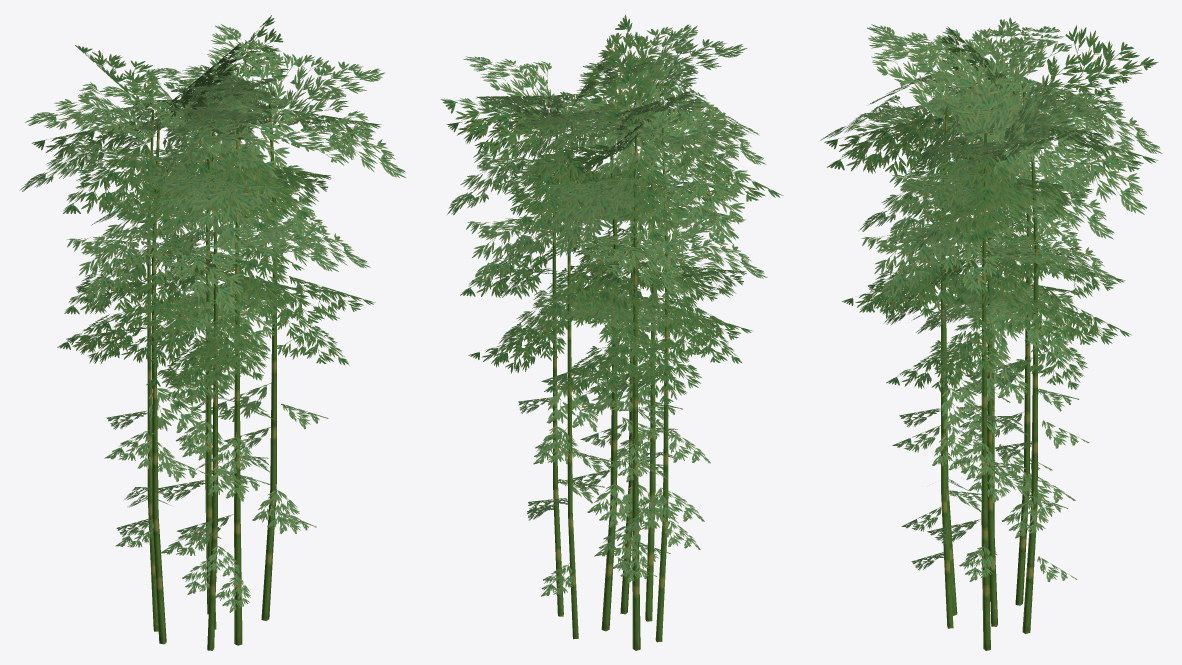
Rendered from m_bamboo01.fbx.
3 views of the same model, side by side, from view 1: azimuth 30°, elevation 25°; view 2: azimuth 150°, elevation 25°; view 3: azimuth 270°, elevation 25° (orthographic).
Parts seen in each view (by area): view 1: mesh_bamboo01; view 2: mesh_bamboo01; view 3: mesh_bamboo01.
Boxes of the visible parts, x1,y1,x2,y2 form: mesh_bamboo01: [19, 15, 405, 650]; mesh_bamboo01: [441, 14, 783, 650]; mesh_bamboo01: [820, 17, 1162, 650].
Bounding box in the file's own units: 1.81 × 3.14 × 1.67.
